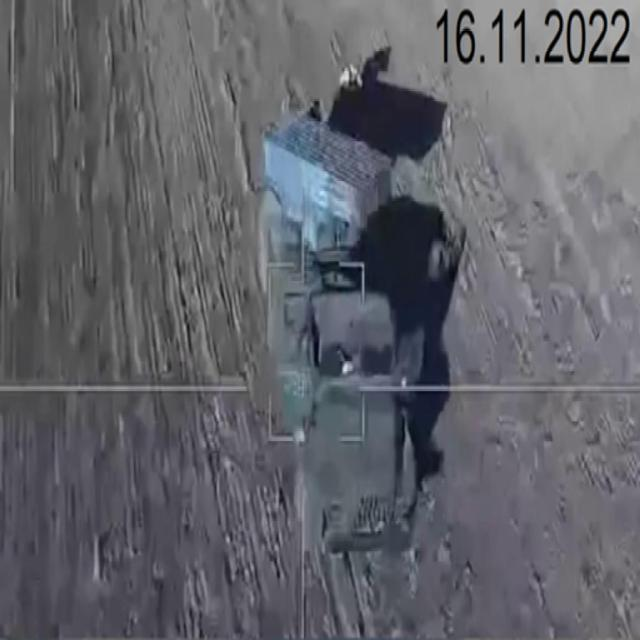MLRS: (242, 104, 426, 558)
